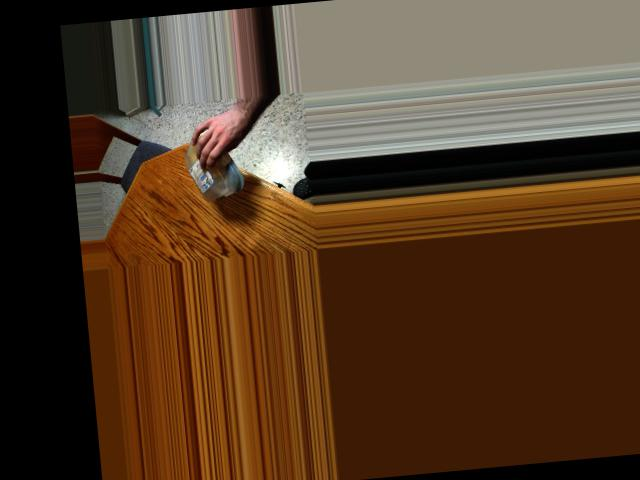cheese: (191, 136, 238, 199)
